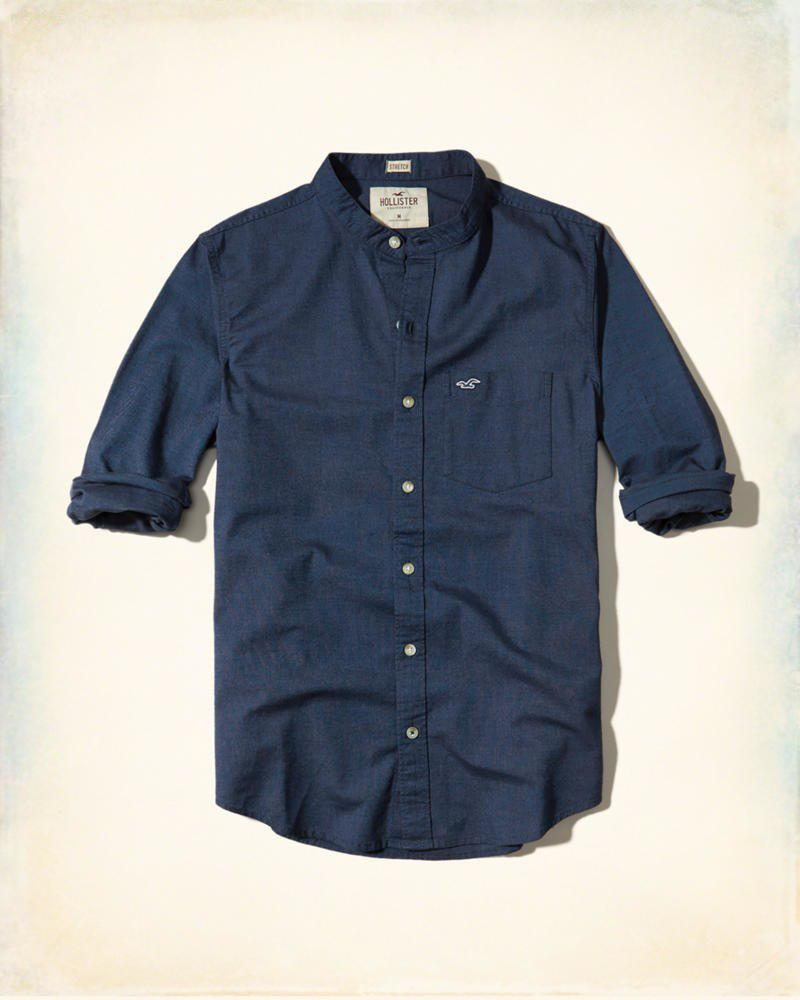teeshirt: (68, 143, 764, 890)
